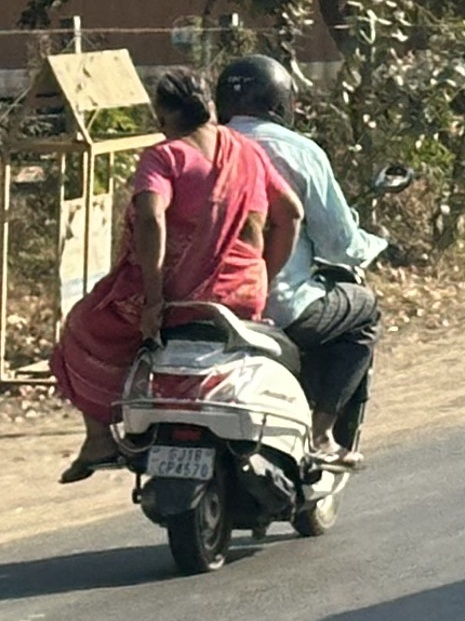BikeWithRider: (37, 46, 422, 584)
Helmet: (205, 46, 306, 135)
NoHelmet: (141, 62, 225, 145)
